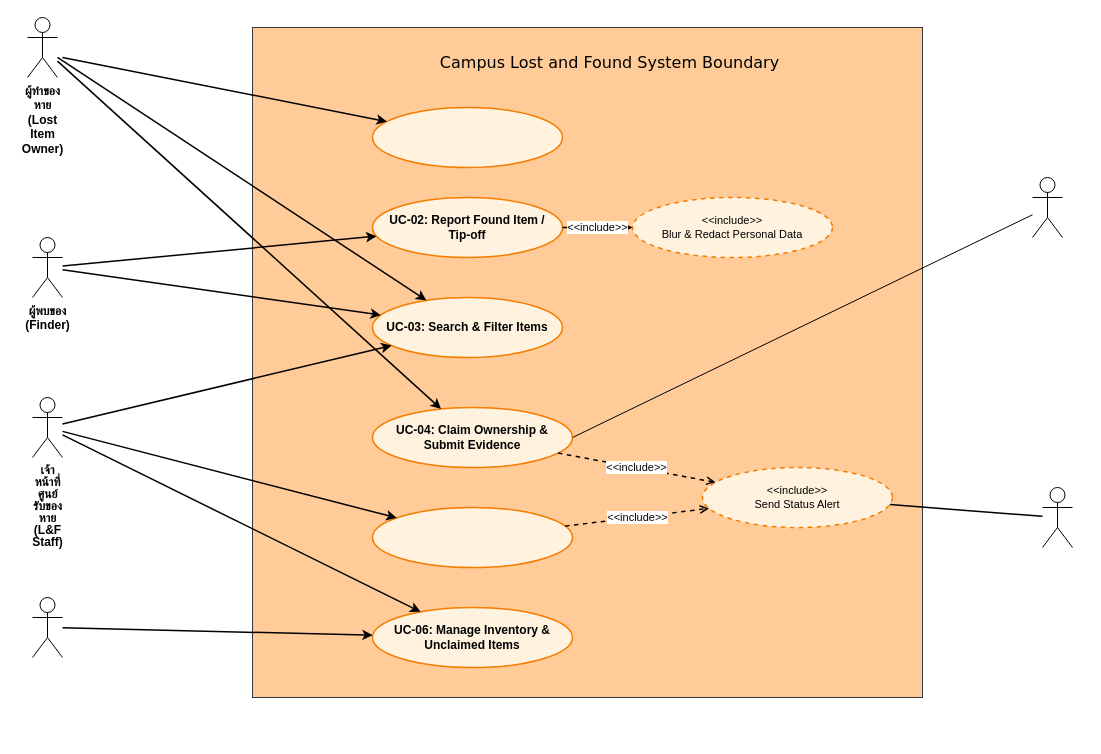
This 1101x754 diagram has some shape labels left out. The centre of each missing label's shape, as x and y in pixels:
"UC-01: Report Lost Item" goes at point (467, 137).
"UC-05: Verify Claim & Handover Item" goes at point (472, 537).
"ผู้ดูแลระบบ IT / ผู้บริหาร (IT Admin / Executive)" goes at point (47, 627).
"ระบบยืนยันตัวตน มหาวิทยาลัย (Identity Service)" goes at point (1057, 517).
"ระบบแจ้งเตือน (Notification Service)" goes at point (1047, 207).
